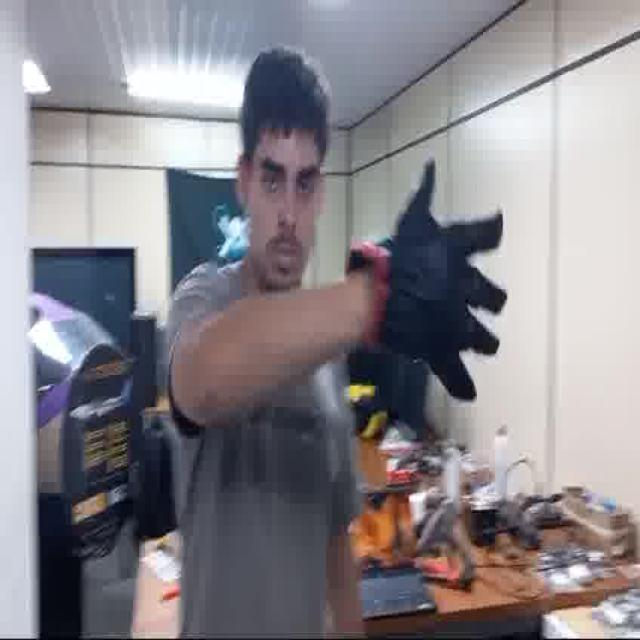Gloves: (370, 154, 516, 410)
